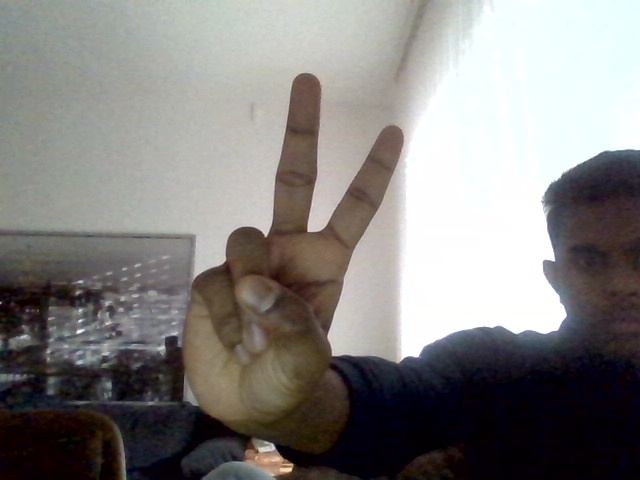livel: (182, 73, 406, 425)
